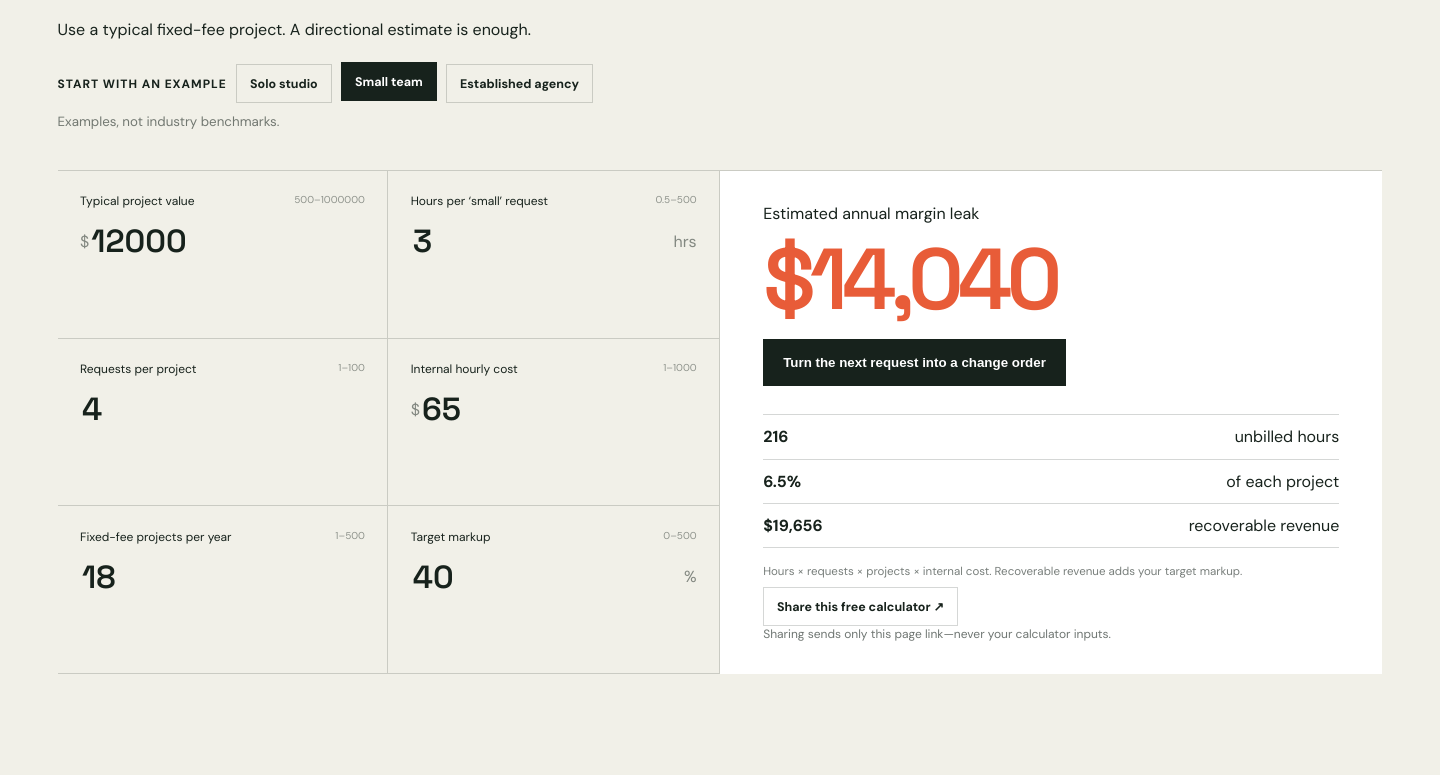
Scenario: calculator journey › shares only the public calculator link
(page scrolled)
Click the button "Share this free calculator ↗". click: (860, 607)
box: [763,588,958,626]
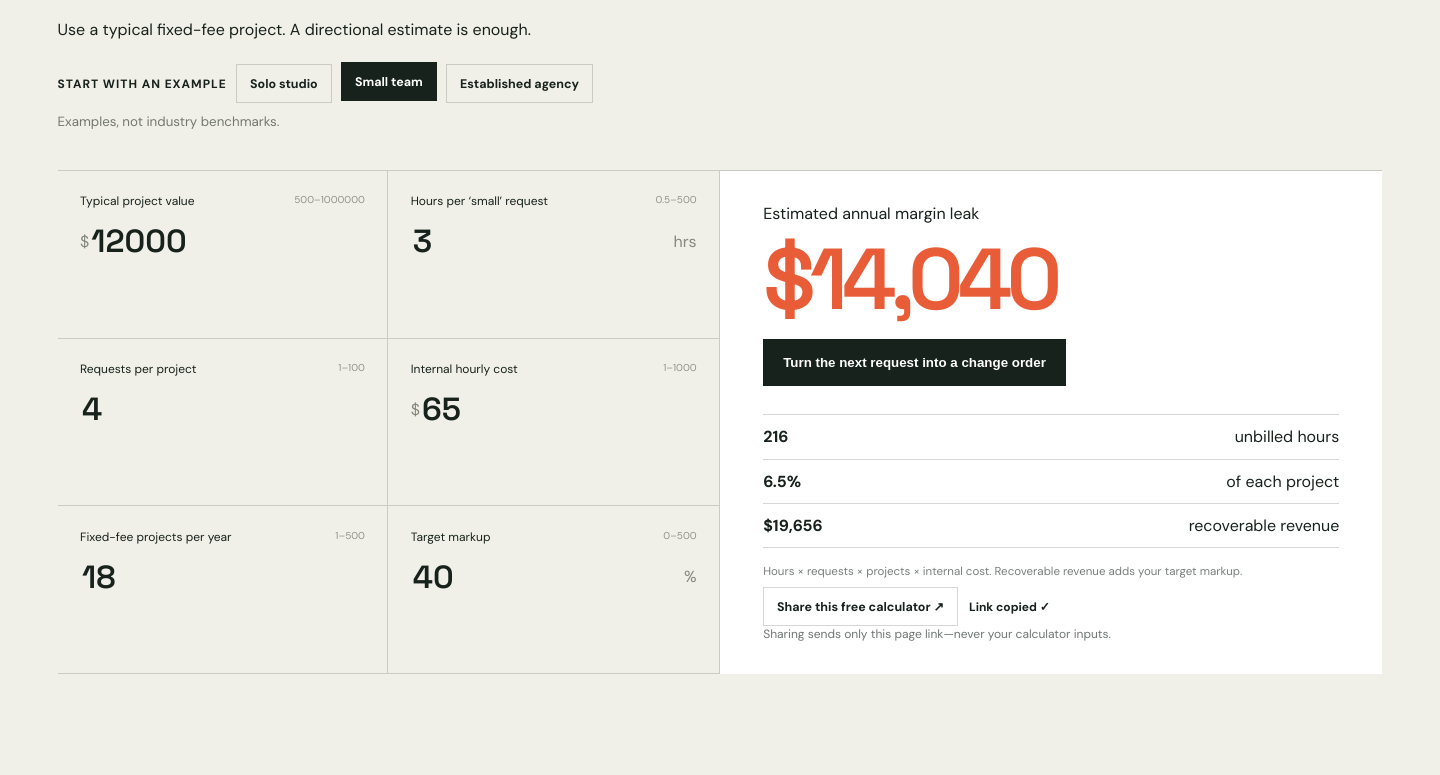
Check: the text "never your calculator inputs" is shown, box [763,626,1111,642]
Check: the text "Link copied ✓" is shown, box [969,599,1050,615]
